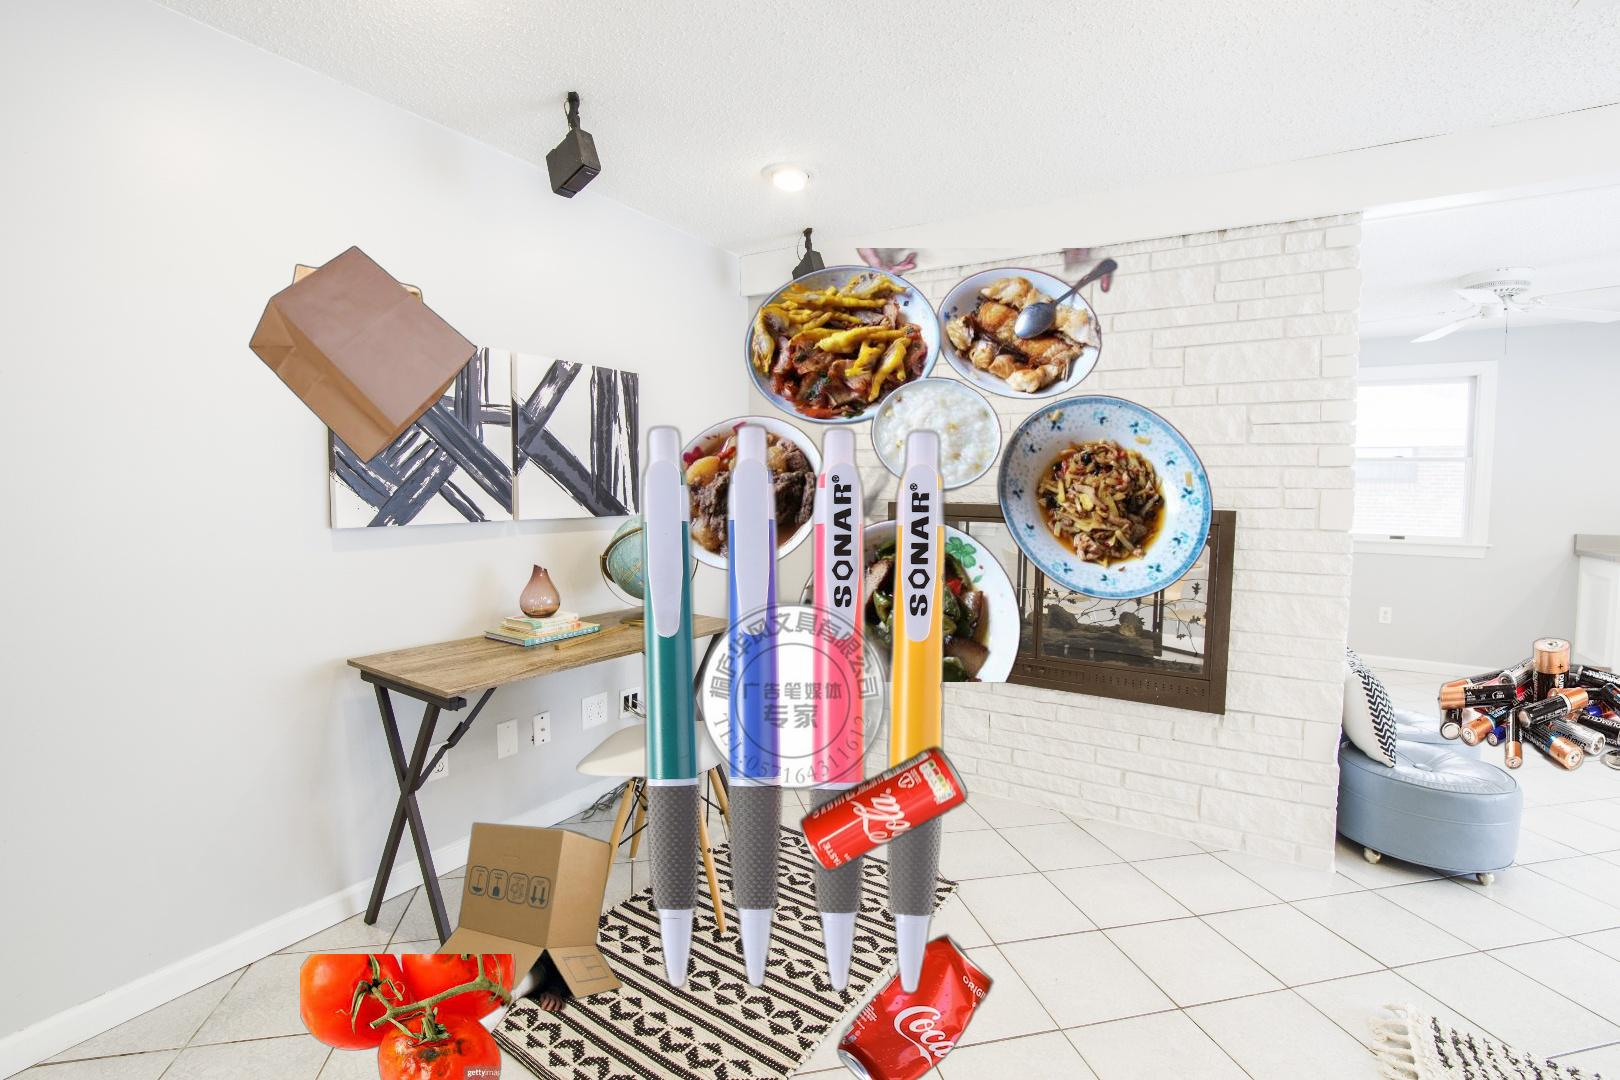battery: (1436, 635, 1620, 774)
biological: (661, 248, 1213, 682), (300, 953, 518, 1080)
metal-cans: (834, 931, 1255, 1080), (796, 741, 972, 877)
paper-bag: (247, 245, 481, 466)
penholder: (635, 417, 953, 1000)
trashbox-cardboard: (306, 818, 627, 1062)
